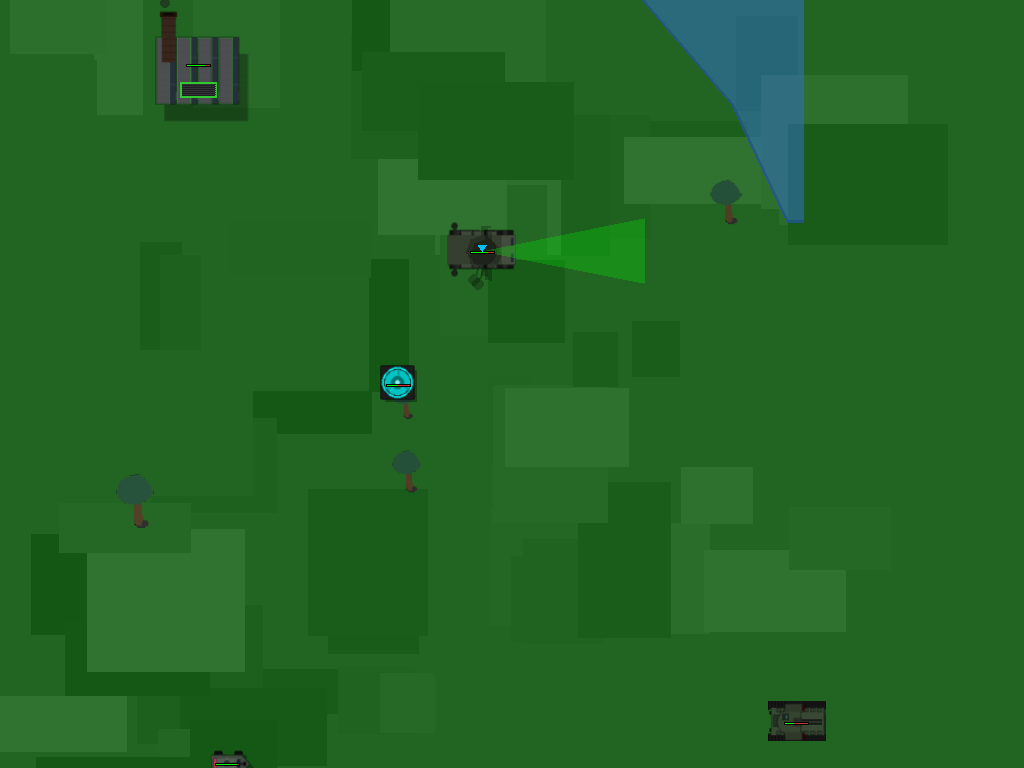ArmoredCar: (209, 744, 246, 768)
FactoryBuilding: (142, 7, 254, 119)
Lake: (642, 0, 804, 221)
LaserTurret: (371, 356, 424, 409)
RadarBuilding: (442, 211, 520, 289)
TerminatorIFV: (772, 697, 804, 745)
